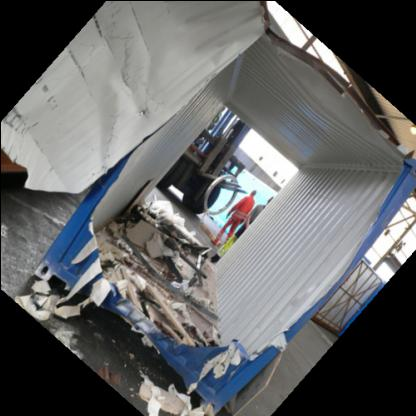Damage: (33, 93, 413, 367)
